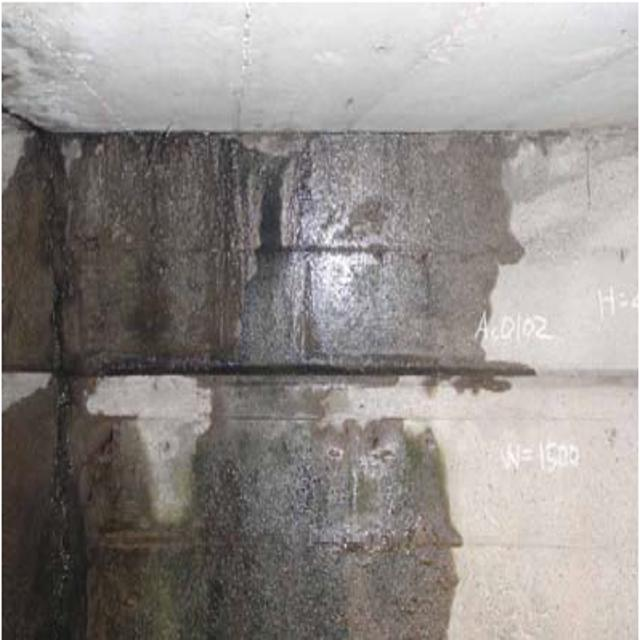leakage: (11, 116, 512, 637)
